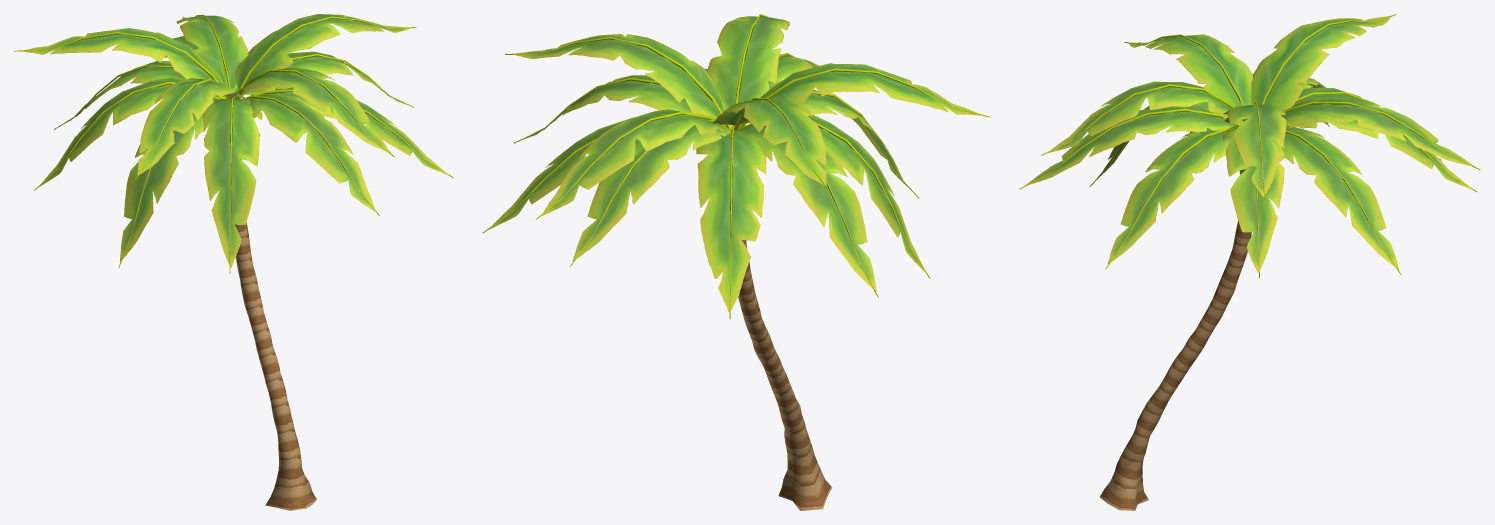
Rendered from SM_PalmTree_var3.fbx.
3 views of the same model, side by side, from view 1: azimuth 30°, elevation 25°; view 2: azimuth 150°, elevation 25°; view 3: azimuth 270°, elevation 25° (orthographic). The views are drawn at different scales.
Visible parts, largest first — view 1: SM_PalmTree_var1; view 2: SM_PalmTree_var1; view 3: SM_PalmTree_var1.
Boxes of the visible parts, x1,y1,x2,y2 form: SM_PalmTree_var1: [14, 14, 453, 510]; SM_PalmTree_var1: [482, 14, 990, 510]; SM_PalmTree_var1: [1019, 14, 1480, 510].
Size of the model in its own units: 418 by 480 by 456.
